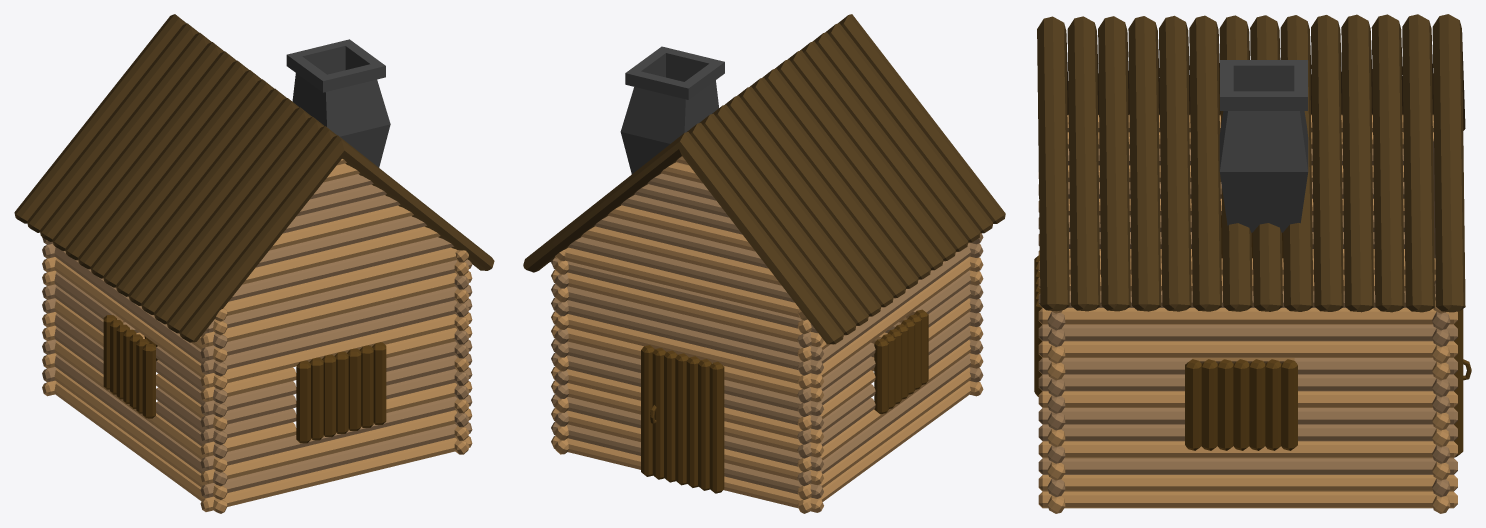
3 views of the same model, side by side, from view 1: azimuth 30°, elevation 25°; view 2: azimuth 150°, elevation 25°; view 3: azimuth 270°, elevation 25° (orthographic). The views are drawn at different scales.
Parts seen in each view (by area): view 1: pCube110; view 2: pCube110; view 3: pCube110.
Boxes of the visible parts, box(x1,y1,x2,y2) form: pCube110: box(14, 14, 494, 513); pCube110: box(523, 14, 1005, 513); pCube110: box(1034, 14, 1471, 513).
Bounding box in the file's own units: 2773 × 2923 × 2743.
